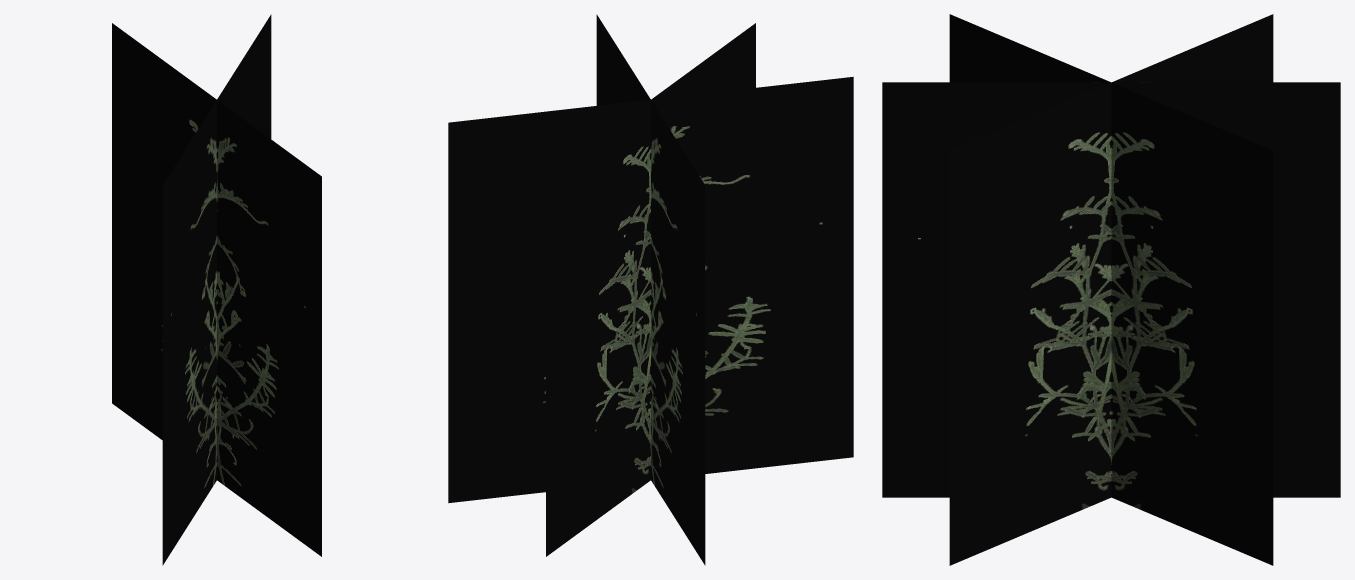
Rendered from medium_foliage_01.glb.
3 views of the same model, side by side, from view 1: azimuth 30°, elevation 25°; view 2: azimuth 150°, elevation 25°; view 3: azimuth 270°, elevation 25° (orthographic). The views are drawn at different scales.
Visible parts, largest first — view 1: Plane.017; view 2: Plane.017; view 3: Plane.017.
Part boxes in pixels (<box>): Plane.017: <box>112,14,321,565</box>; Plane.017: <box>448,14,853,565</box>; Plane.017: <box>882,14,1340,565</box>.
Size of the model in its own units: 0.9994 by 1.41 by 1.41.
Materials: 1 (1 with a texture image).
